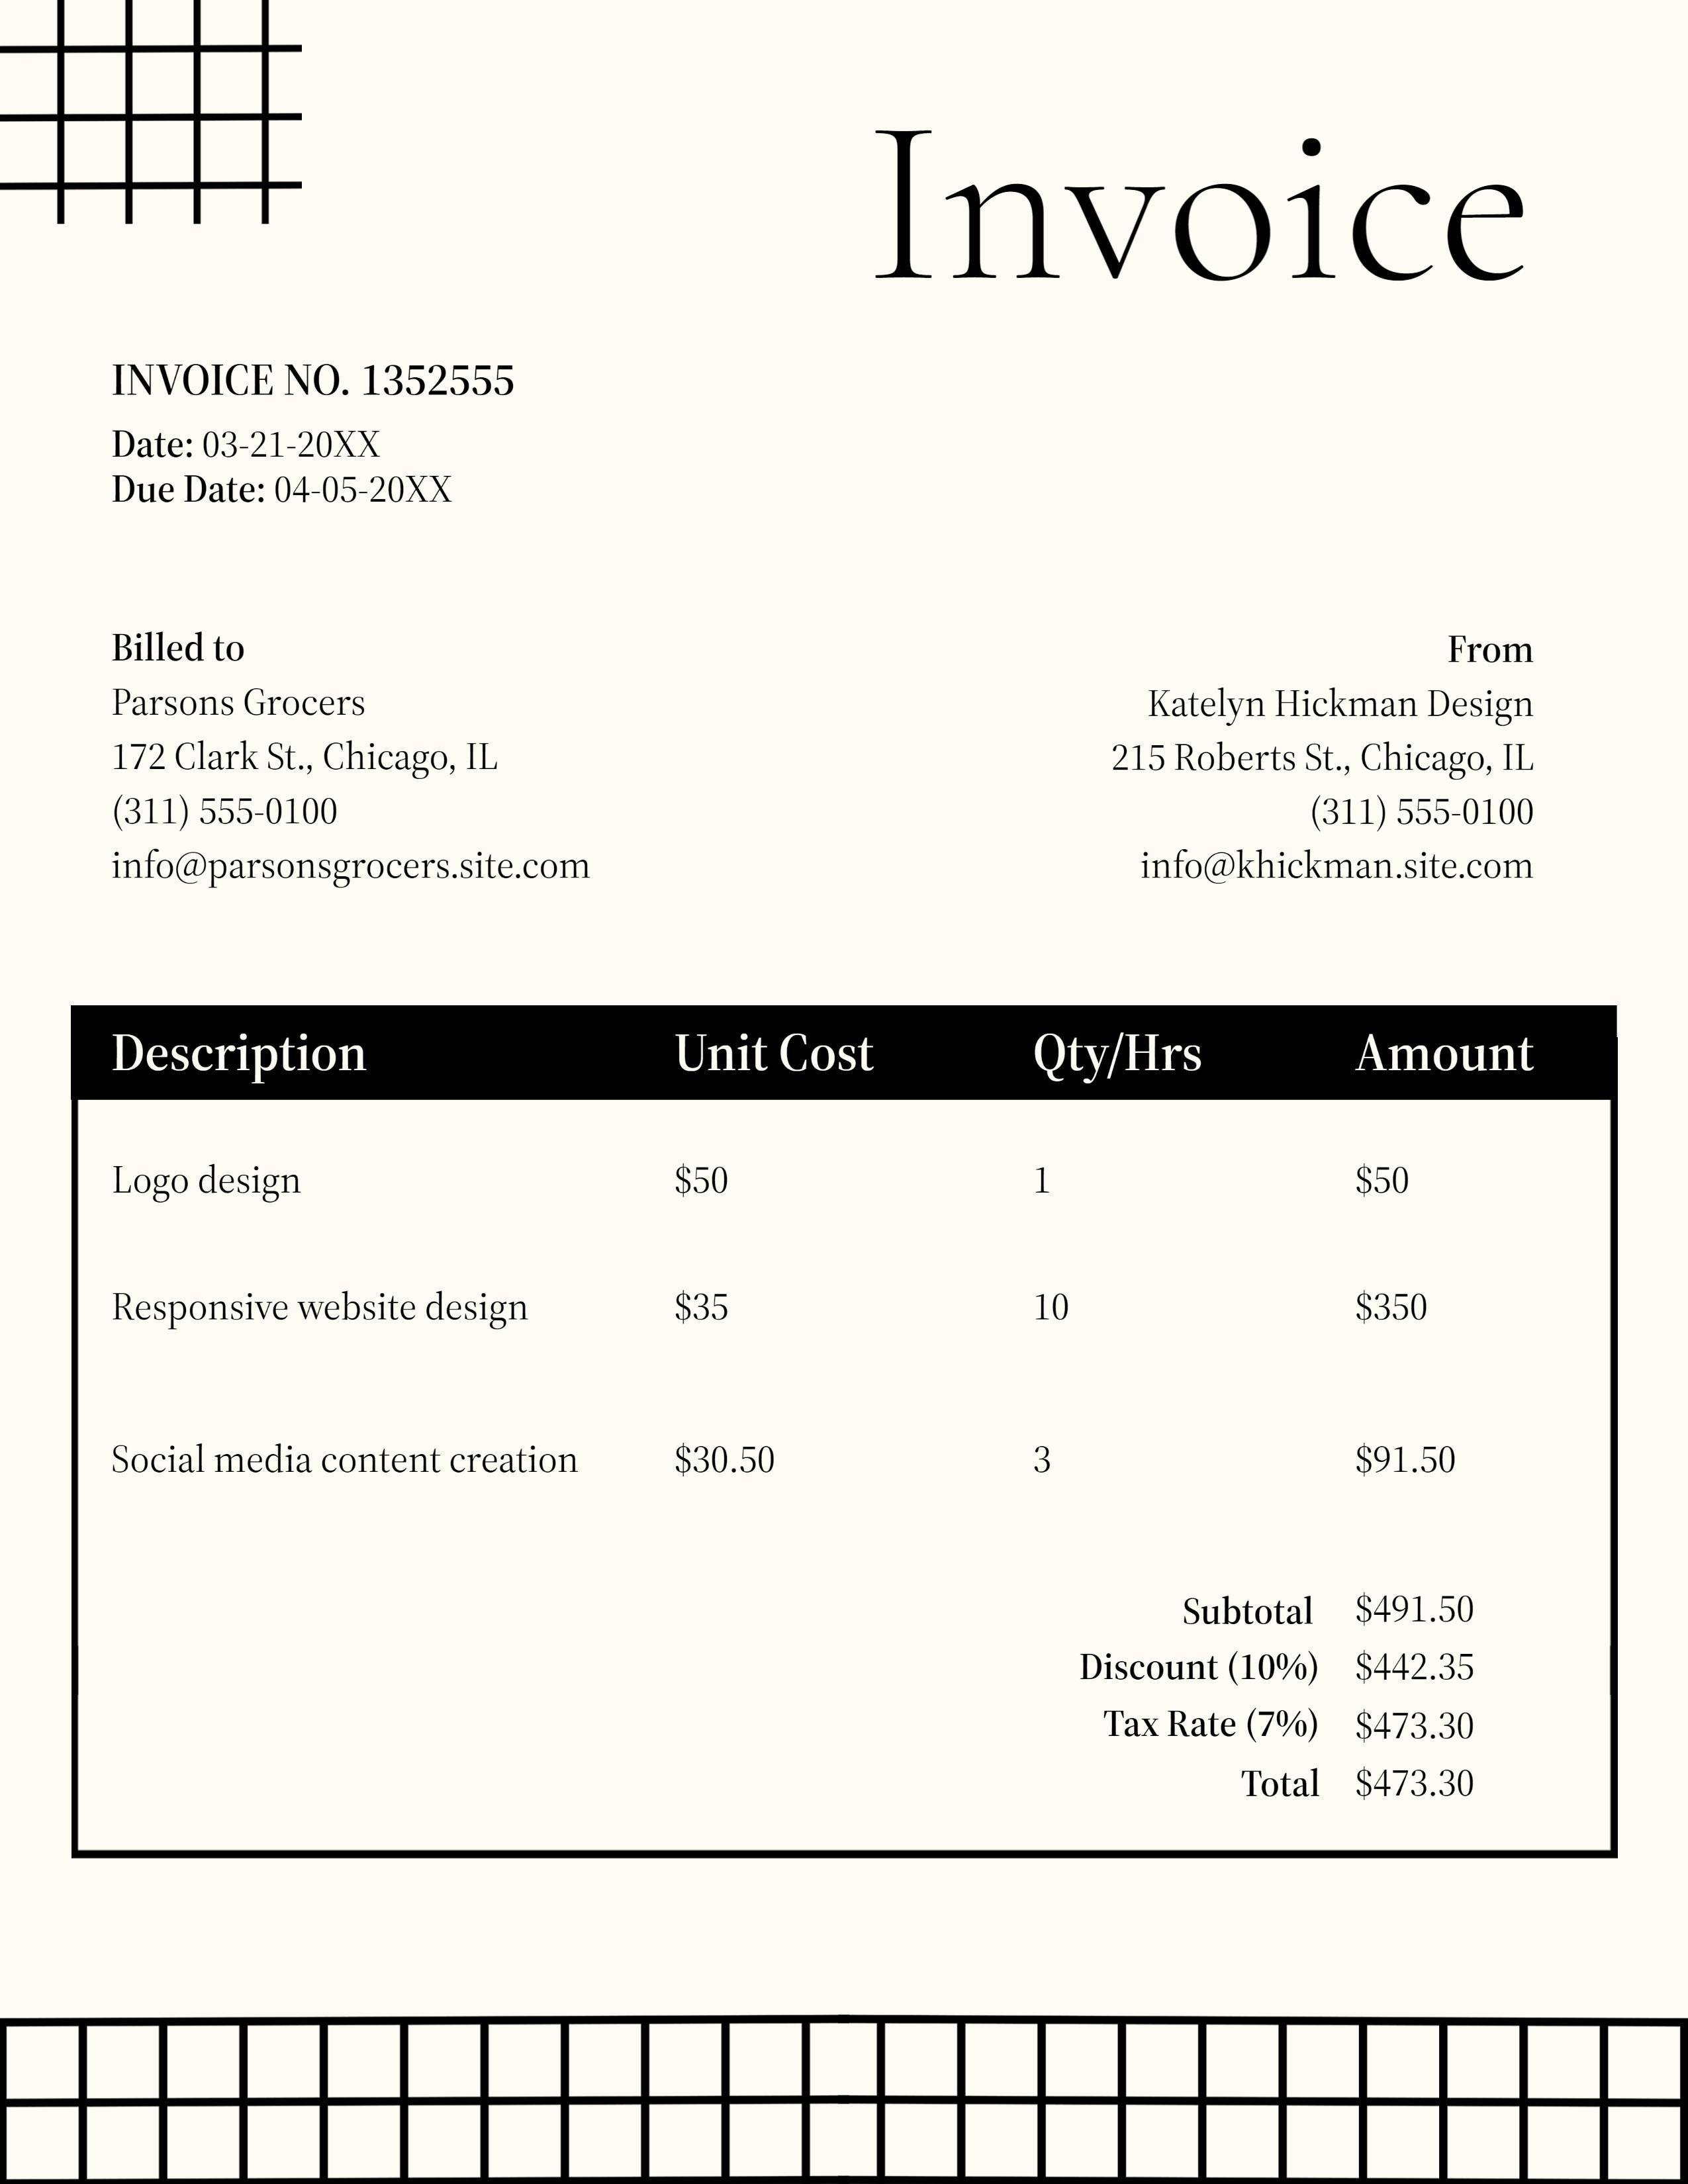ROI: (83, 1016, 1599, 1489), (79, 606, 599, 923), (1089, 612, 1559, 900), (1059, 1559, 1536, 1830), (83, 328, 526, 516)
